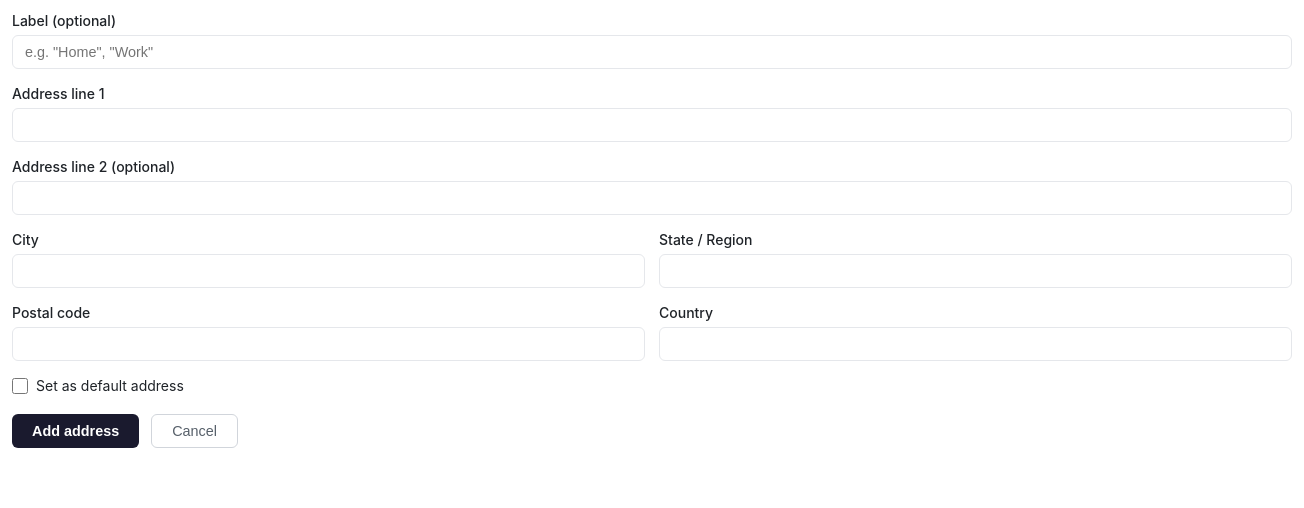
Scenario: AddressForm validation › shows error when city is blank
Type "123 Main St" into the field labelled "Address line 1" at (652,125), box x1=12 y1=108 x2=1292 y2=142
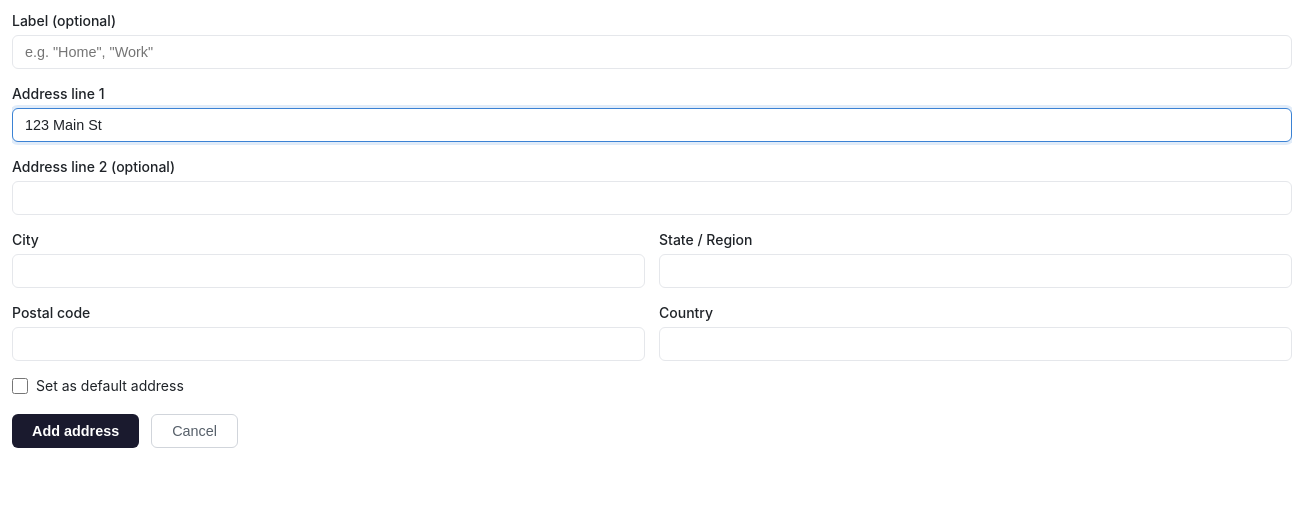
Click the button "Add address" at (76,431), box x1=12 y1=414 x2=139 y2=448
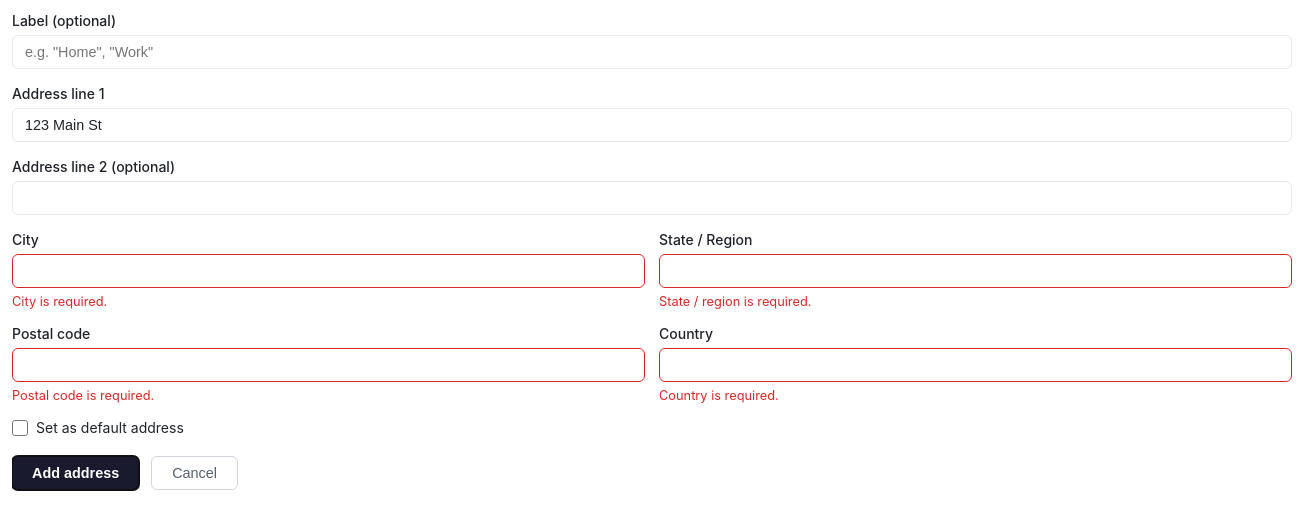
Check: the text "City is required." is shown, box x1=12 y1=294 x2=107 y2=309
